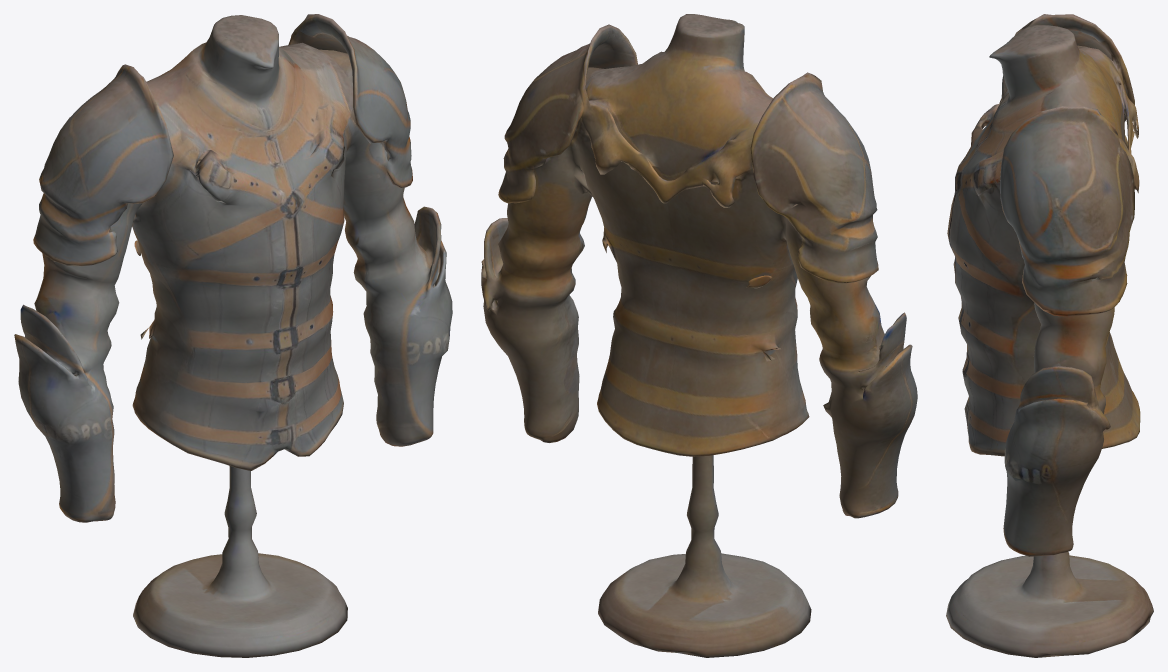
The model's file is Hard Leather Body.glb.
The picture shows the model from 3 angles, left to right: view 1: azimuth 30°, elevation 25°; view 2: azimuth 150°, elevation 25°; view 3: azimuth 270°, elevation 25°; orthographic projection.
Parts seen in each view (by area): view 1: file1; view 2: file1; view 3: file1.
Boxes of the visible parts, x1=… form: file1: x1=14, y1=14, x2=452, y2=657; file1: x1=481, y1=14, x2=917, y2=657; file1: x1=946, y1=14, x2=1153, y2=657.
Size of the model in its own units: 1.48 by 2 by 0.6525.
Materials: 1 (1 with a texture image).
